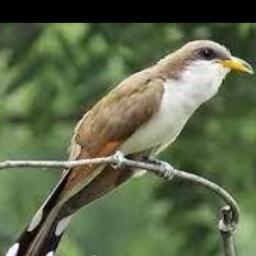Cuckoo: (0, 40, 252, 256)
